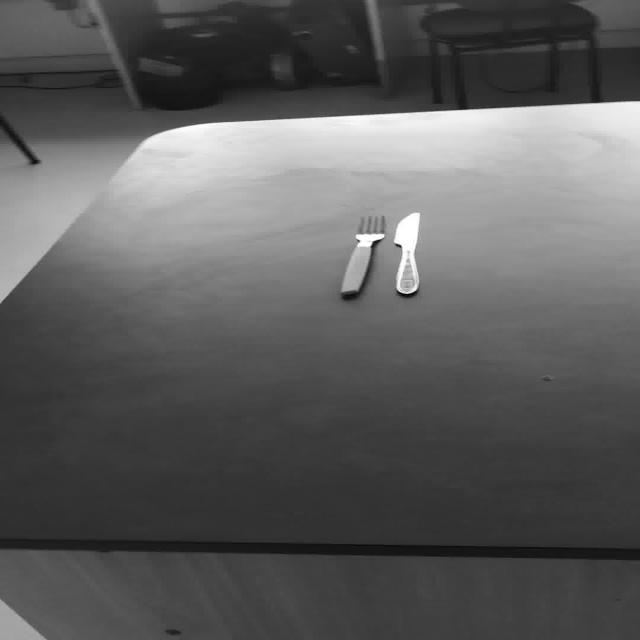fork: (338, 214, 386, 296)
knife fork: (392, 211, 420, 294)
